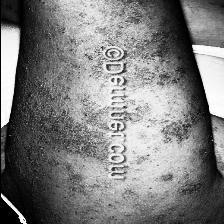Non-Cancerous Skin Condition: (22, 62, 96, 200), (130, 52, 204, 178), (33, 0, 159, 38)
